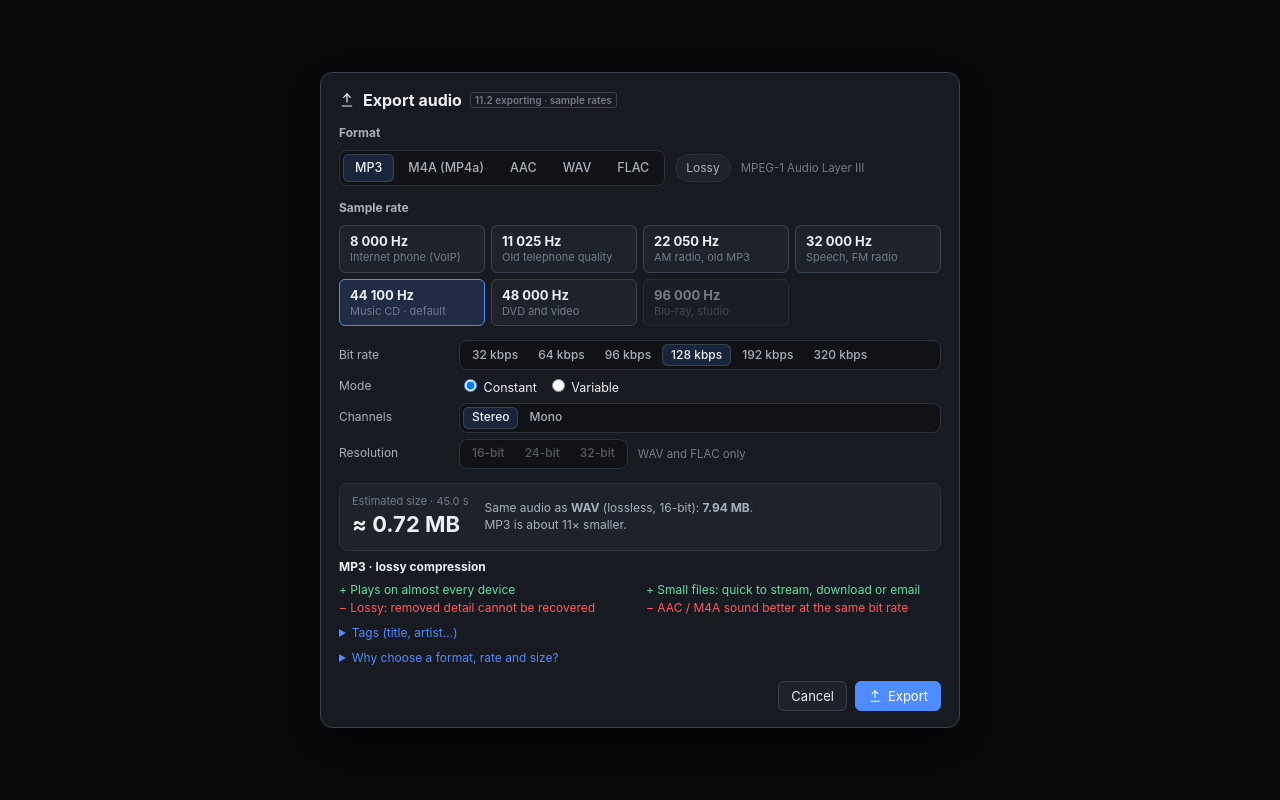
audio export dialog › A15 Mono halves the size; variable bit rate is for MP3 only
The width and height of the screenshot is (1280, 800).
Click the button "Mono": (546, 418) [520,407,571,429]
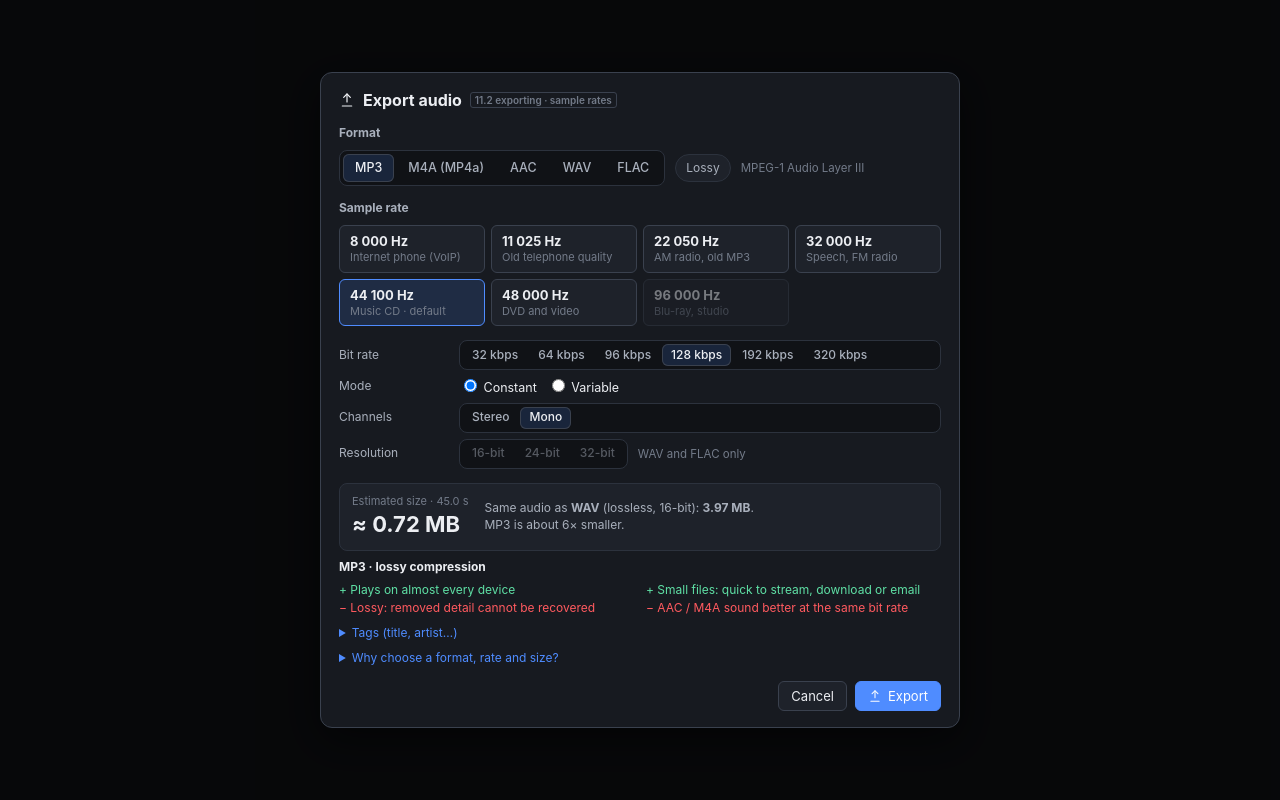
Now the text "3.97 MB" is shown, box [703,500,750,515]
Click the radio button labelled "Variable": (558, 386) [552,379,565,392]
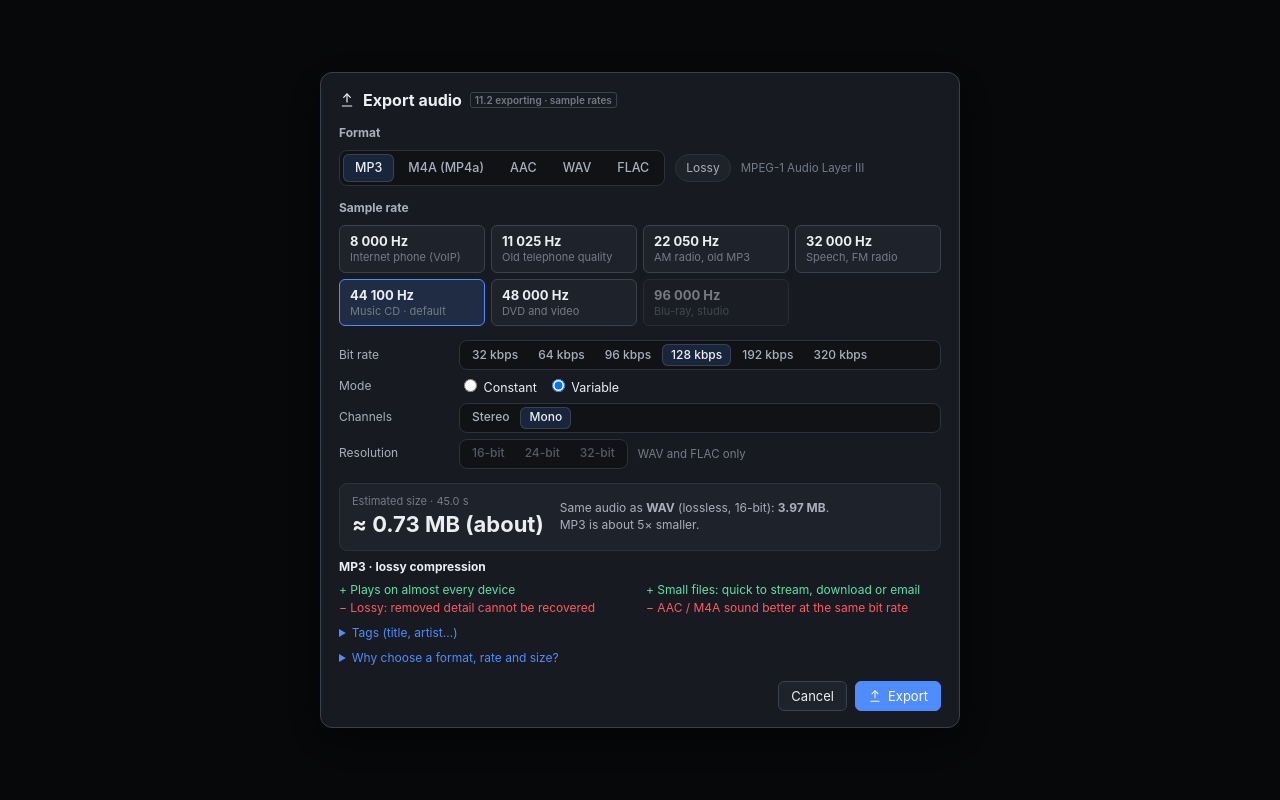
Now the text named "Estimated file size" shows "about", box [352,511,544,537]
Click the button "M4A (MP4a)": (446, 168) [396,154,496,182]
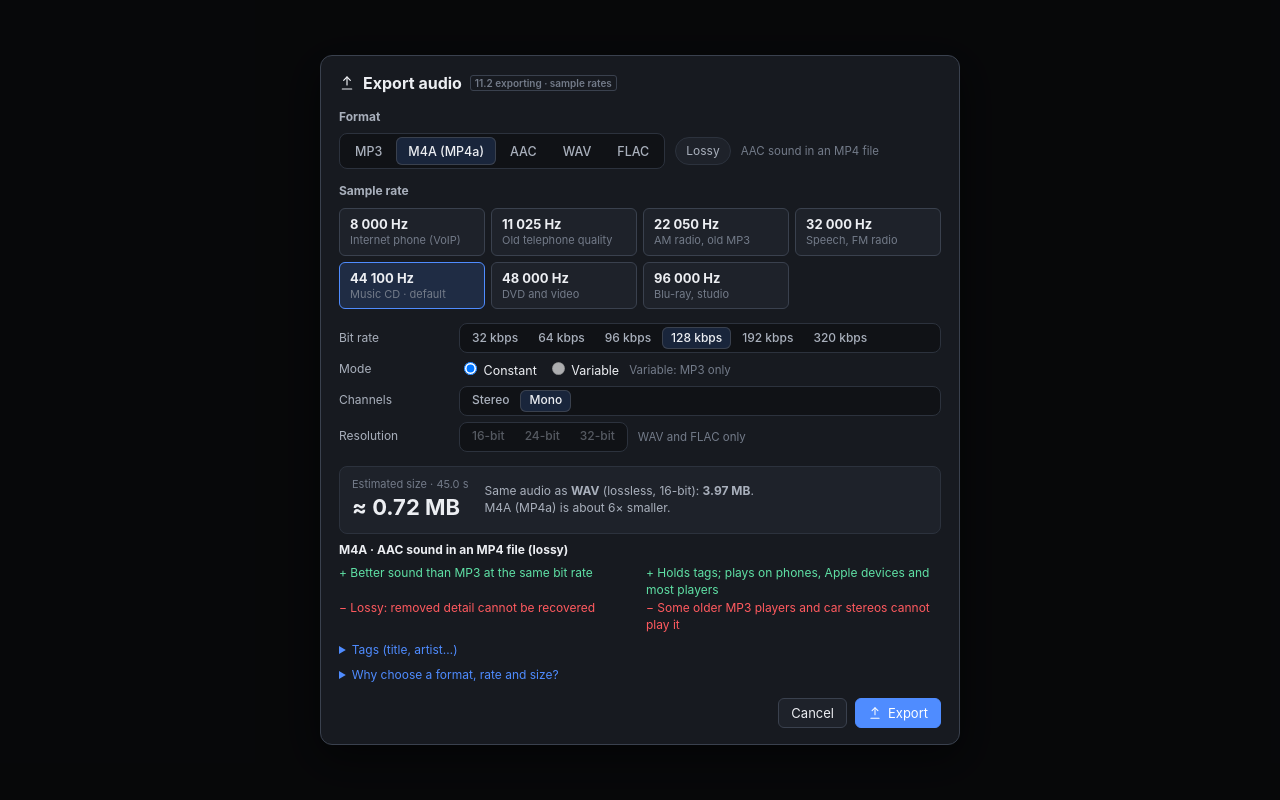
Now the radio button labelled "Variable" is disabled, box [552,362,565,375]
